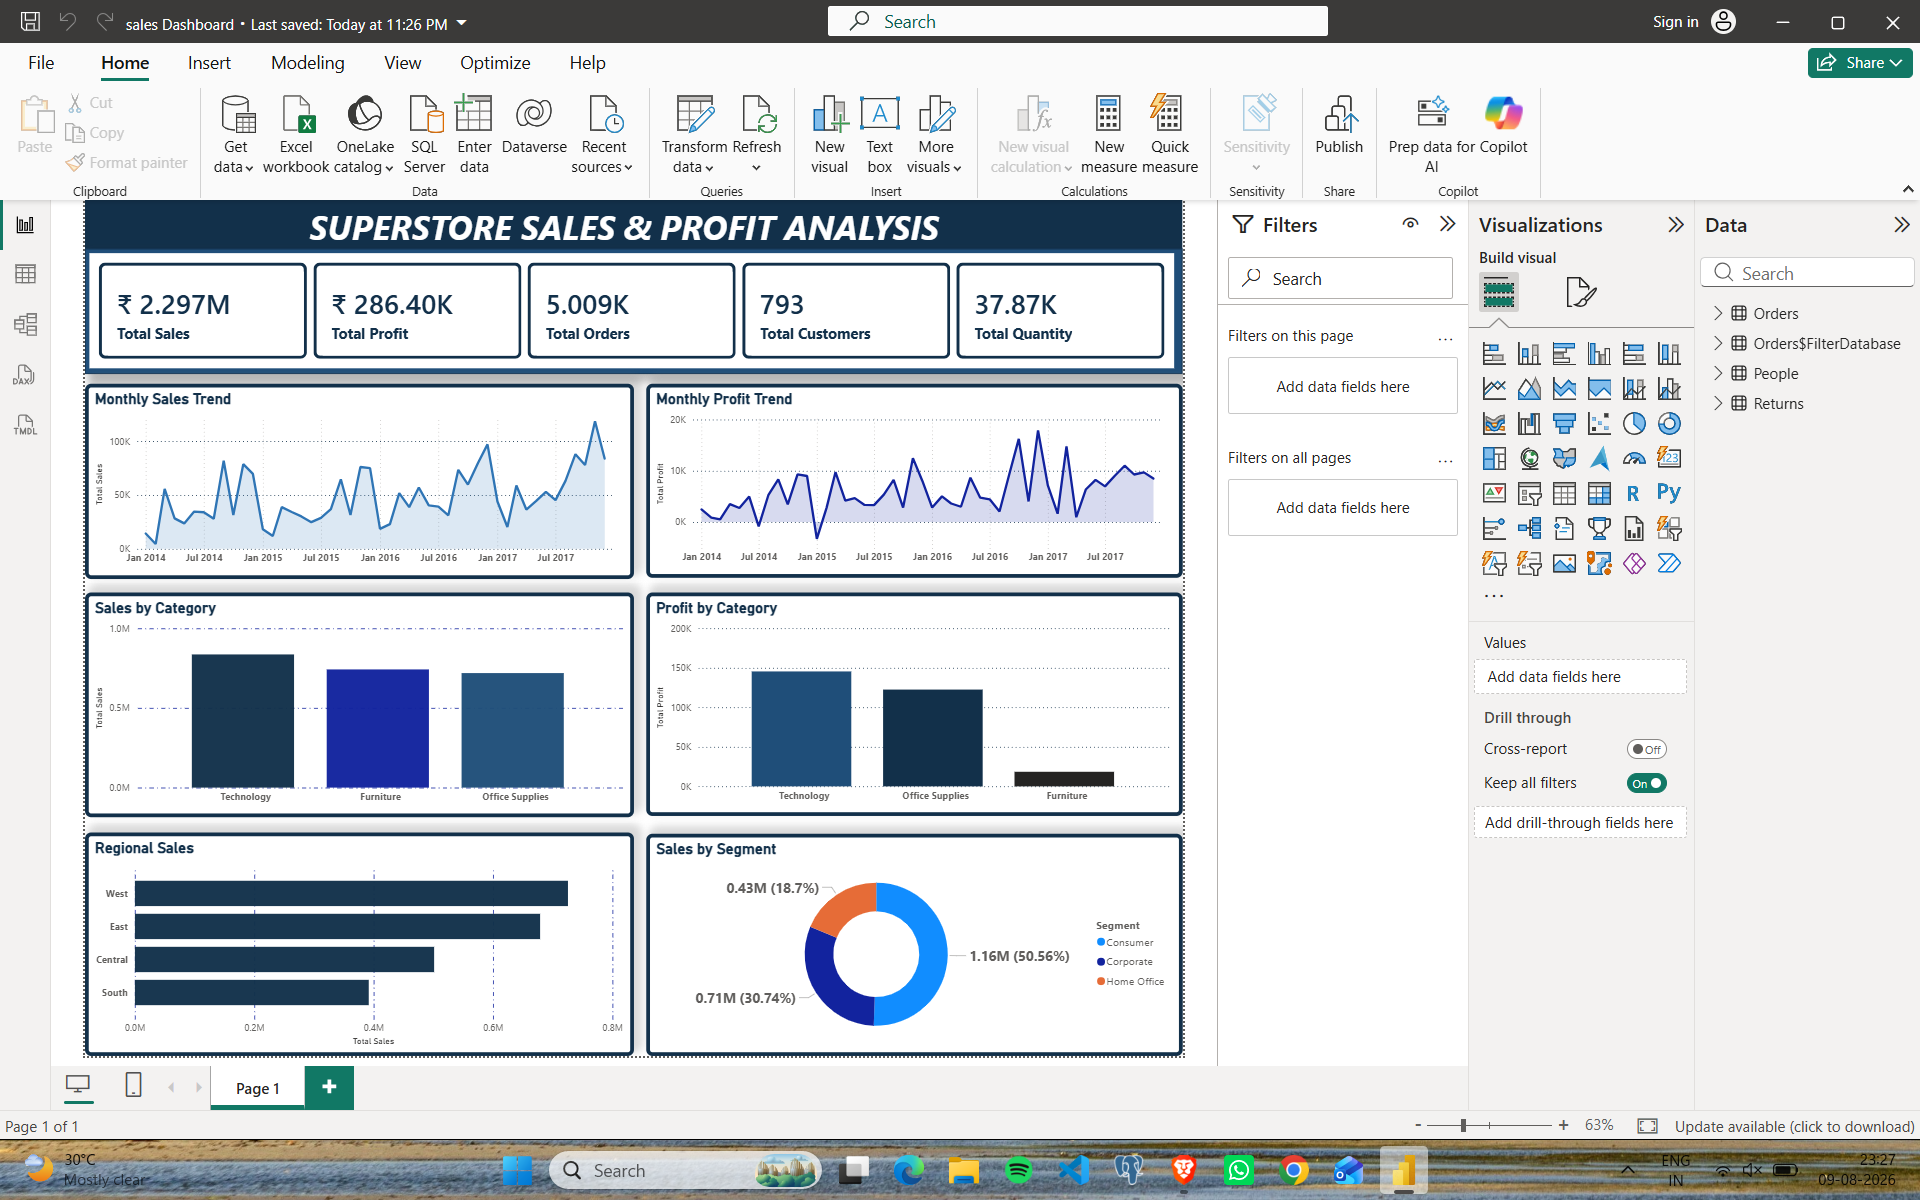

The page's visual inventory and layout, read from the dashboard file:
{"tool":"powerbi","page":{"name":"Page 1","canvas":[1403,1094],"ordinal":0},"visuals":[{"type":"textbox","box":[0,0,1402.7,75.1],"z":0},{"type":"cardVisual","fields":{"Data":["Orders.Total Sales","Orders.Total Profit","Orders.Total Orders","Orders.Total Customers","Orders.Total Quantity"]},"box":[0,62.3,1402.7,159.8],"z":1000},{"type":"lineChart","title":"Monthly Sales Trend","fields":{"Y":["Orders.Total Sales"],"Category":["Orders.Order Date.Variation.Date Hierarchy.Year","Orders.Order Date.Variation.Date Hierarchy.Month"]},"box":[0,234.8,701.3,249.2],"z":2000},{"type":"lineChart","title":"Monthly Profit Trend","fields":{"Category":["Orders.Order Date.Variation.Date Hierarchy.Year","Orders.Order Date.Variation.Date Hierarchy.Month"],"Y":["Orders.Total Profit"]},"box":[717.3,234.8,685.4,247.6],"z":3000},{"type":"clusteredColumnChart","title":"Sales by Category","fields":{"Y":["Orders.Total Sales"],"Category":["Orders.Category"]},"box":[0,501.6,701.3,287.6],"z":3001},{"type":"clusteredColumnChart","title":"Profit by Category","fields":{"Y":["Orders.Total Profit"],"Category":["Orders.Category"]},"box":[717.3,501.6,685.4,286],"z":3002},{"type":"clusteredBarChart","title":"Regional Sales","fields":{"Y":["Orders.Total Sales"],"Category":["Orders.Region"]},"box":[0,808.4,701.3,286],"z":3003},{"type":"donutChart","title":"Sales by Segment","fields":{"Category":["Orders.Segment"],"Y":["Orders.Total Sales"]},"box":[717.3,810,685.4,284.4],"z":3004}]}

Visuals, with their boxes on the page's 1403x1094 design canvas (x1, y1, x2, y2). These are canvas units, not pixel positions in the 1920x1200 screenshot, which may show the page scaled, cropped or inside an application window:
textbox: 0/0/1403/75
cardVisual - Orders.Total Sales x Orders.Total Profit: 0/62/1403/222
"Monthly Sales Trend" lineChart: 0/235/701/484
"Monthly Profit Trend" lineChart: 717/235/1403/482
"Sales by Category" clusteredColumnChart: 0/502/701/789
"Profit by Category" clusteredColumnChart: 717/502/1403/788
"Regional Sales" clusteredBarChart: 0/808/701/1094
"Sales by Segment" donutChart: 717/810/1403/1094
